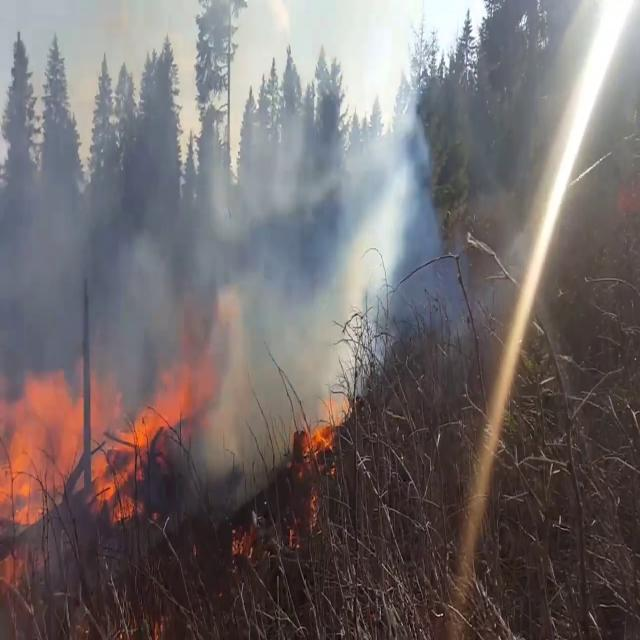Fire: (0, 342, 194, 522), (305, 376, 353, 458)
Smoke: (0, 21, 447, 442)
